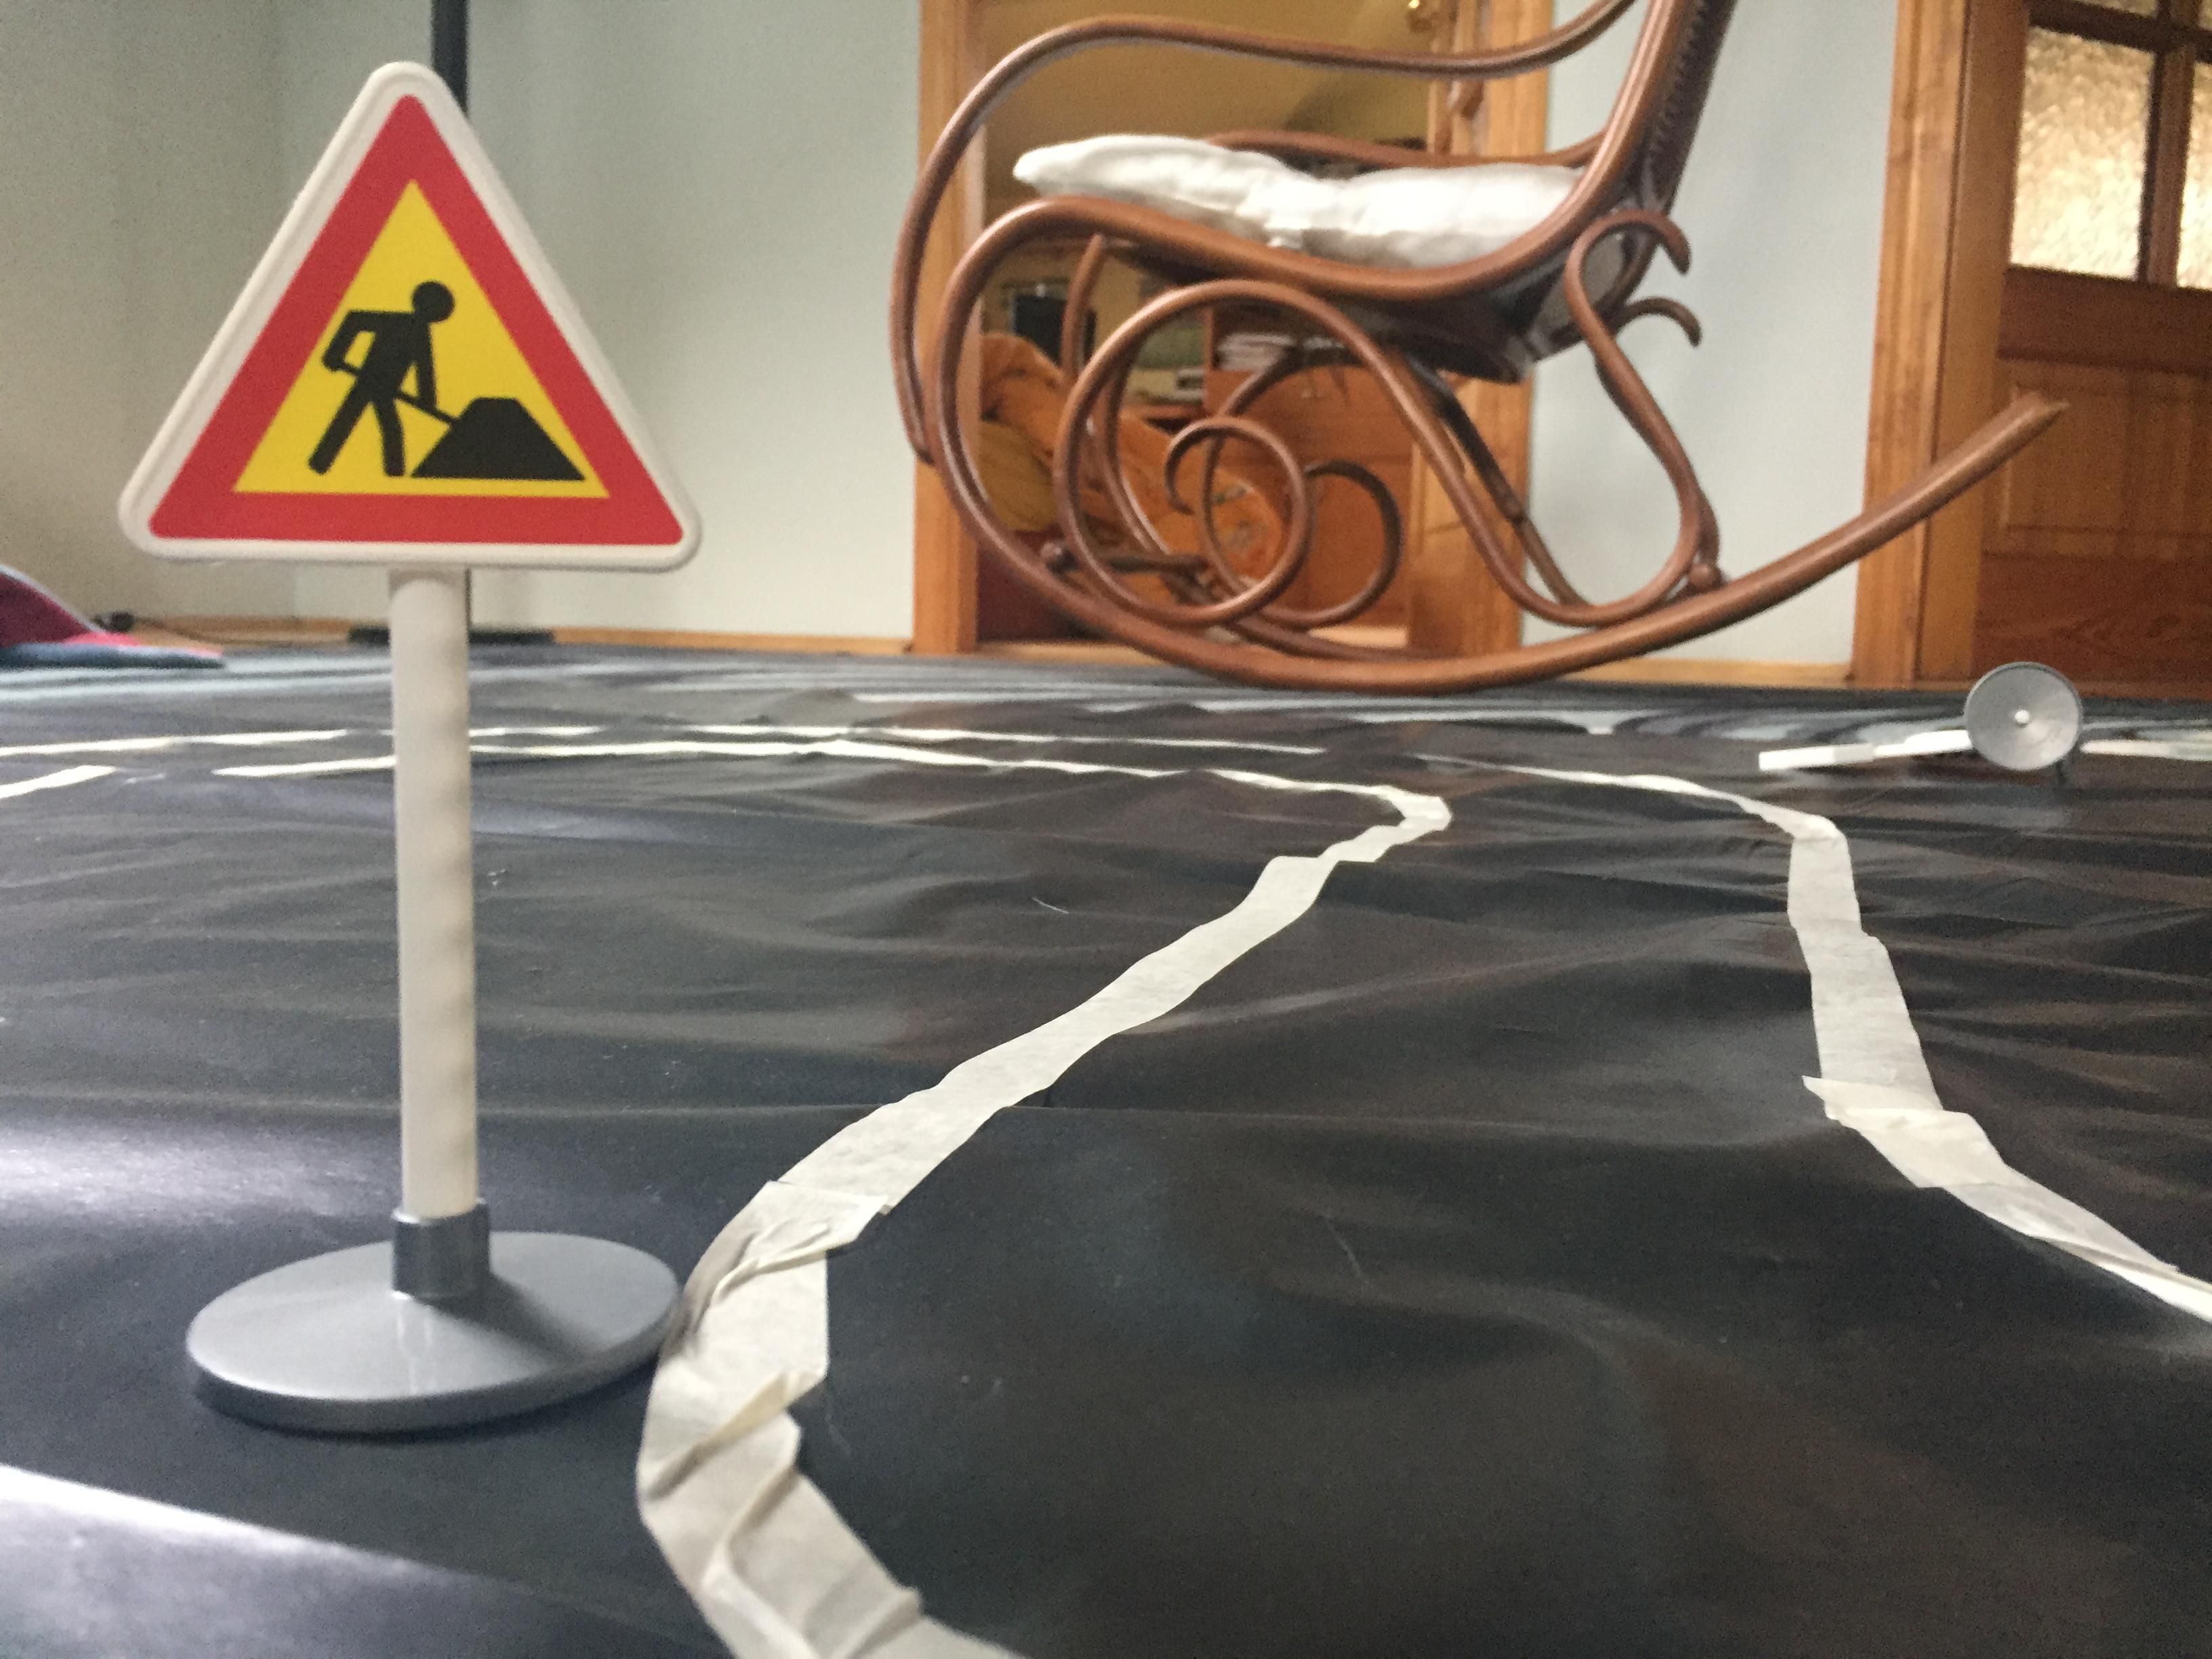work: (110, 49, 718, 591)
